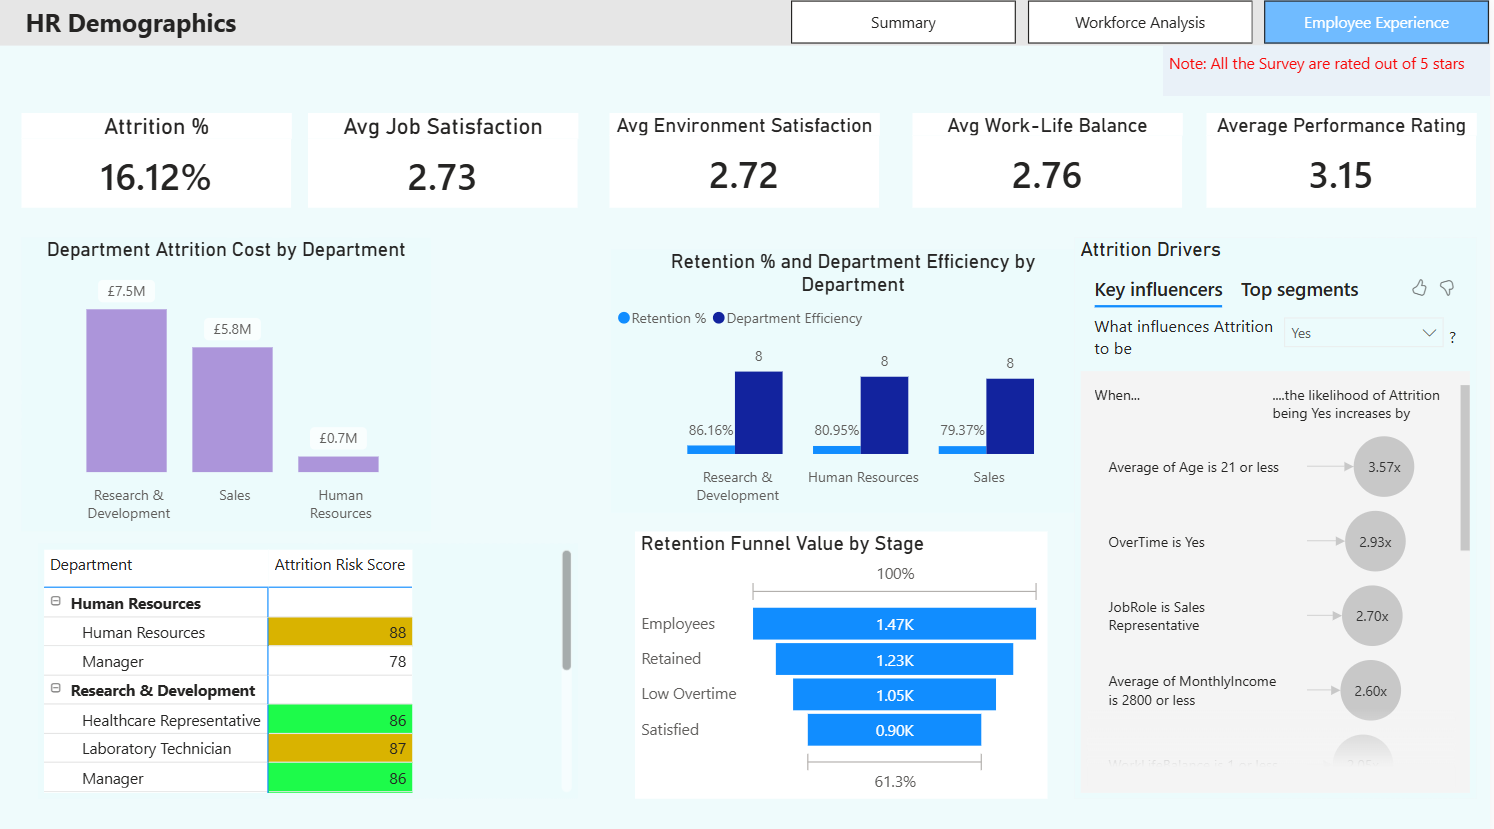

The dashboard page shown, as its layout file describes it:
{"tool":"powerbi","page":{"name":"Employee Experience","canvas":[1280,720],"ordinal":2},"visuals":[{"type":"cardVisual","title":"Attrition %","fields":{"Data":["Attrition IBM.Attrition Rate"]},"box":[19.7,98.4,231.7,81.8],"z":0},{"type":"cardVisual","title":"Avg Job Satisfaction","fields":{"Data":["Attrition IBM.Avg Job Satisfaction"]},"box":[265,98.4,231.7,81.8],"z":1000},{"type":"cardVisual","title":"Avg Environment Satisfaction","fields":{"Data":["Attrition IBM.Avg Environment Satisfaction"]},"box":[523.9,98.4,231.7,81.8],"z":2000},{"type":"cardVisual","title":"Avg Work-Life Balance","fields":{"Data":["Attrition IBM.Avg Work-Life Balance"]},"box":[784.4,98.4,231.7,81.8],"z":3000},{"type":"cardVisual","title":"Average Performance Rating","fields":{"Data":["Attrition IBM.Average Performance Rating"]},"box":[1035.7,98.4,231.7,81.8],"z":4000},{"type":"pivotTable","fields":{"Rows":["Attrition IBM.Department","Attrition IBM.JobRole"],"Values":["Attrition IBM.Attrition Risk Score"]},"box":[33.8,467.7,463.1,218.5],"z":5000},{"type":"lineStackedColumnComboChart","fields":{"Category":["Attrition IBM.Department"],"Y":["Attrition IBM.Department Attrition Cost"]},"box":[19.2,204.6,351.3,252],"z":6000},{"type":"textbox","box":[0,0,1280.4,39.8],"z":7000},{"type":"pageNavigator","box":[679.9,1.5,599.6,37.9],"z":8000},{"type":"clusteredColumnChart","fields":{"Category":["Attrition IBM.Department"],"Y":["Attrition IBM.Retention %","Attrition IBM.Department Efficiency"]},"box":[524.6,215.4,415.4,226.2],"z":9000},{"type":"funnel","fields":{"Category":["Retention Funnel.Stage"],"Y":["Retention Funnel.Retention Funnel Value"]},"box":[546.2,456.9,353.8,229.2],"z":10000},{"type":"keyDriversVisual","title":"Attrition Drivers","fields":{"ExplainBy":["Attrition IBM.OverTime","Avg(Attrition IBM.MonthlyIncome)","Avg(Attrition IBM.Age)","Attrition IBM.JobSatisfaction","Attrition IBM.WorkLifeBalance","Attrition IBM.Department","Attrition IBM.JobRole","Attrition IBM.Gender","Attrition IBM.EducationField"],"Target":["Attrition IBM.Attrition"]},"box":[923.1,204.6,344.6,481.5],"z":11000},{"type":"textbox","box":[998.3,40,281.7,43.3],"z":12000}]}

Visuals, with their boxes in screenshot pixels (x1, y1, x2, y2), scaled from the page's 1280x720 canvas onto the 1494x829 screenshot:
"Attrition %" cardVisual: bbox=(23, 113, 293, 207)
"Avg Job Satisfaction" cardVisual: bbox=(309, 113, 580, 207)
"Avg Environment Satisfaction" cardVisual: bbox=(611, 113, 882, 207)
"Avg Work-Life Balance" cardVisual: bbox=(916, 113, 1186, 207)
"Average Performance Rating" cardVisual: bbox=(1209, 113, 1479, 207)
pivotTable - Attrition IBM.Department x Attrition IBM.JobRole: bbox=(39, 539, 580, 790)
lineStackedColumnComboChart - Attrition IBM.Department x Attrition IBM.Department Attrition Cost: bbox=(22, 236, 432, 526)
textbox: bbox=(0, 0, 1493, 46)
pageNavigator: bbox=(794, 2, 1493, 45)
clusteredColumnChart - Attrition IBM.Department x Attrition IBM.Retention %: bbox=(612, 248, 1097, 508)
funnel - Retention Funnel.Stage x Retention Funnel.Retention Funnel Value: bbox=(638, 526, 1050, 790)
"Attrition Drivers" keyDriversVisual: bbox=(1077, 236, 1480, 790)
textbox: bbox=(1165, 46, 1493, 96)
